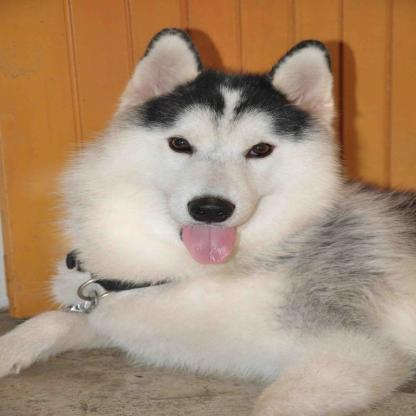husky: (7, 32, 416, 416)
